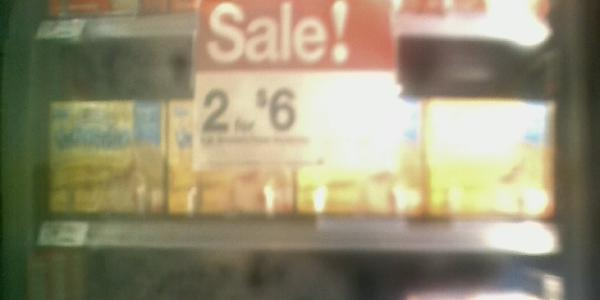icecream: (296, 91, 427, 231), (429, 94, 557, 223), (168, 95, 294, 222), (45, 96, 167, 222)
